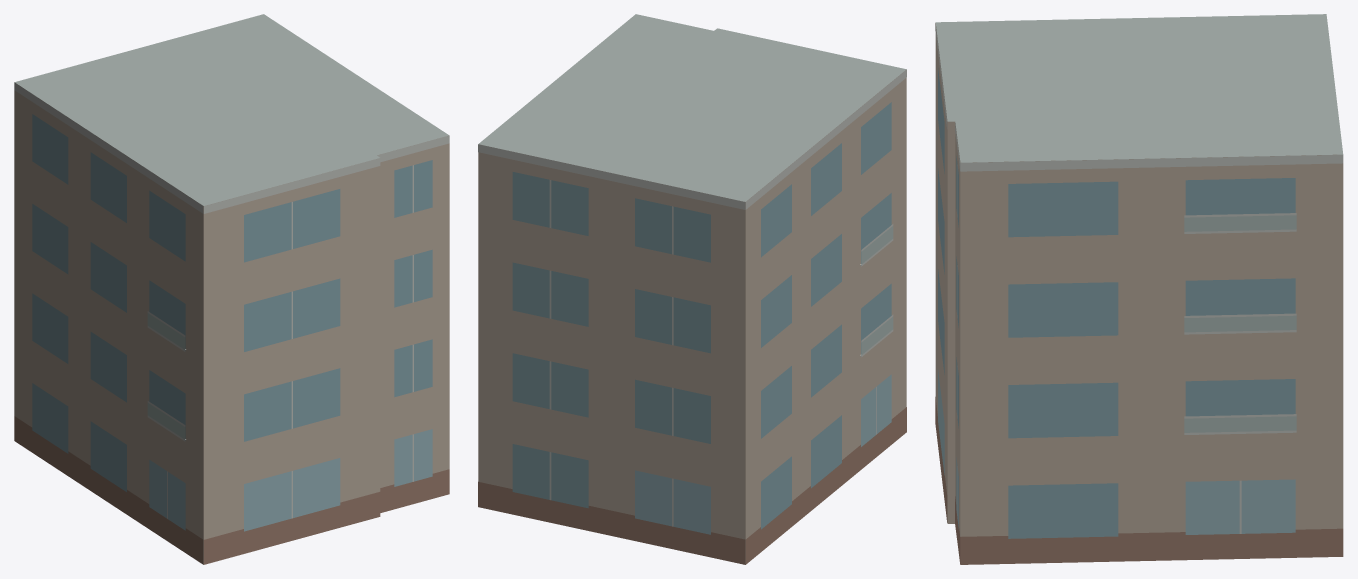
Rendered from survey-upis-32914760.glb.
3 views of the same model, side by side, from view 1: azimuth 30°, elevation 25°; view 2: azimuth 150°, elevation 25°; view 3: azimuth 270°, elevation 25° (orthographic). The views are drawn at different scales.
Parts seen in each view (by area): view 1: survey-upis-32914760.tmp; view 2: survey-upis-32914760.tmp; view 3: survey-upis-32914760.tmp.
Boxes of the visible parts, box(x1,y1,x2,y2) form: survey-upis-32914760.tmp: box(14, 14, 449, 564); survey-upis-32914760.tmp: box(478, 14, 906, 564); survey-upis-32914760.tmp: box(935, 14, 1343, 564).
Size of the model in its own units: 8.73 by 11 by 10.12.
